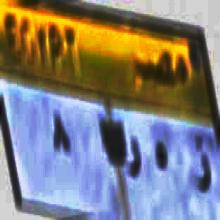8: (46, 110, 72, 156)
haa: (151, 136, 173, 177)
raa: (128, 131, 144, 185)
zay: (190, 130, 214, 196)
